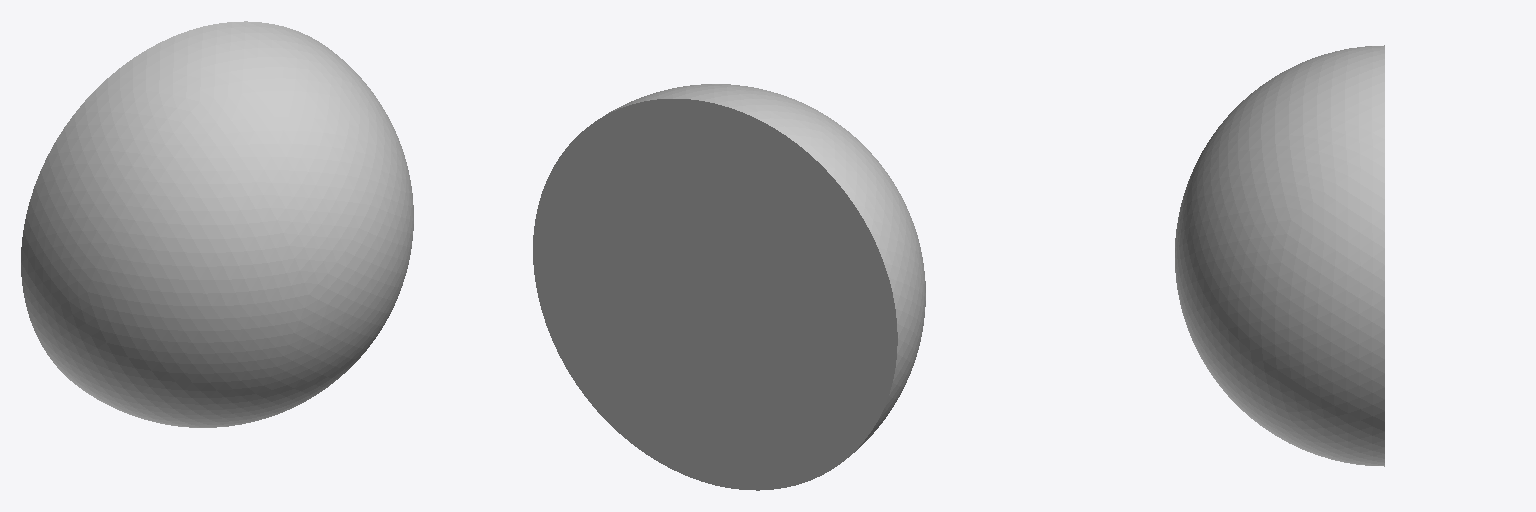
File: dome.obj
3 views of the same model, side by side, from view 1: azimuth 30°, elevation 25°; view 2: azimuth 150°, elevation 25°; view 3: azimuth 270°, elevation 25° (orthographic).
Parts seen in each view (by area): view 1: Object.1; view 2: Object.1; view 3: Object.1.
Part boxes in pixels (bbox=[...]): Object.1: bbox=[21, 21, 413, 427]; Object.1: bbox=[533, 84, 925, 490]; Object.1: bbox=[1175, 45, 1384, 466].
Size of the model in its own units: 66.48 by 66.48 by 33.24.